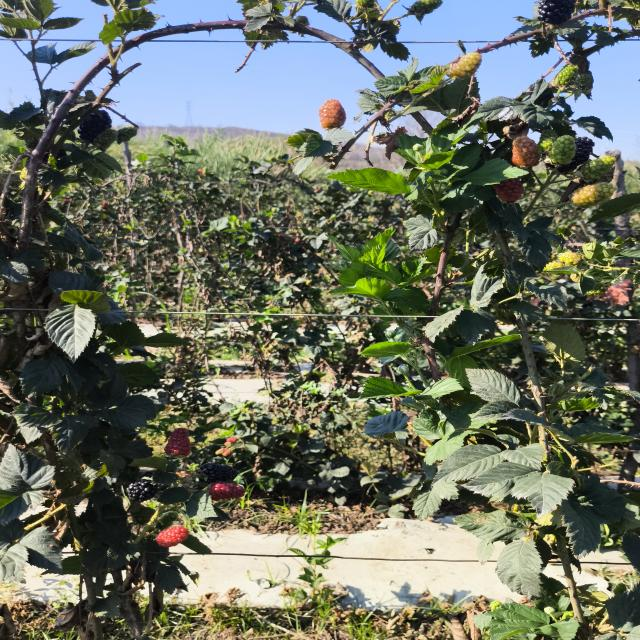maduro: (557, 137, 594, 173), (200, 463, 238, 483), (127, 479, 158, 502)
naranja: (319, 99, 346, 130), (512, 136, 539, 167), (164, 428, 191, 456), (493, 178, 524, 202), (156, 526, 188, 547), (209, 482, 244, 501)
verde: (571, 183, 616, 207), (550, 65, 578, 97), (448, 52, 482, 78), (549, 135, 575, 165), (582, 156, 615, 179), (538, 130, 557, 155)
